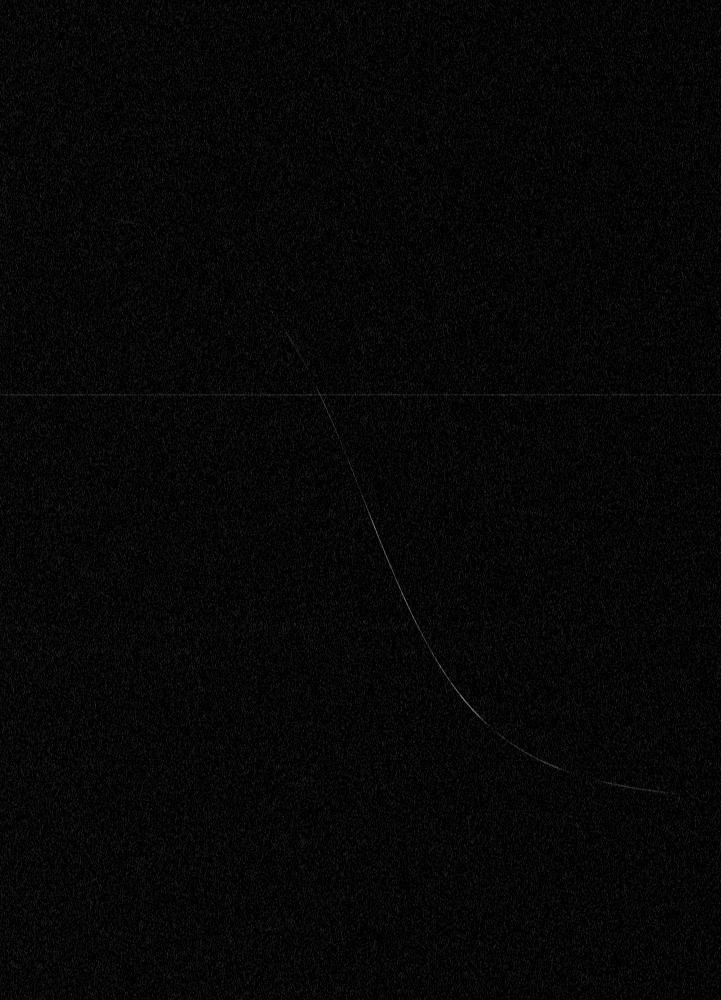signal: (0, 0, 720, 999)
